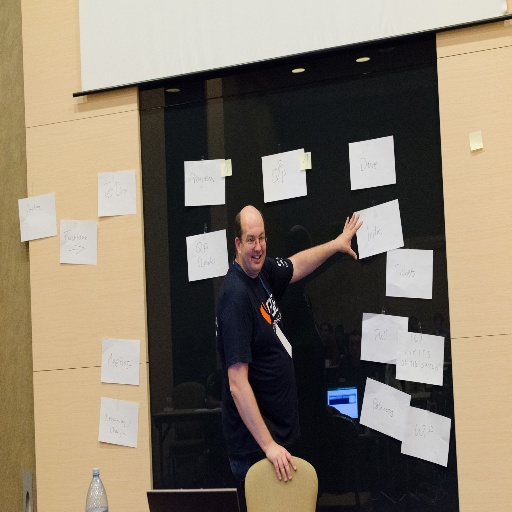hand: (257, 439, 299, 498), (333, 210, 364, 261)
